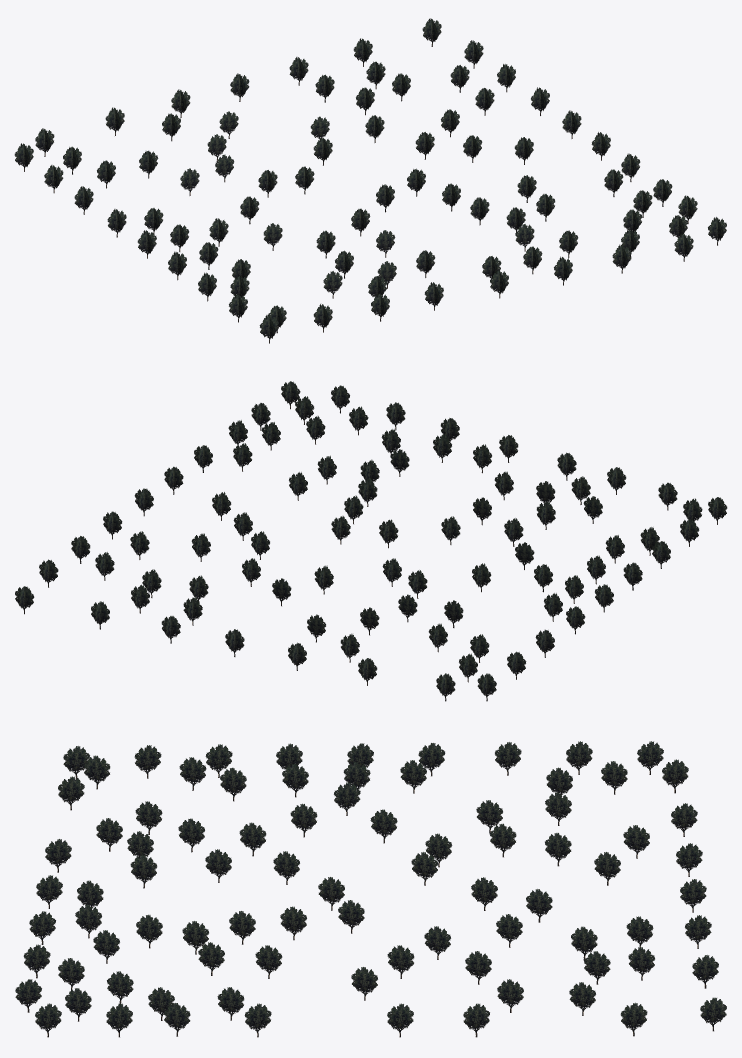
Rendered from planeTree27.FBX.
3 renders of one model, top to bottom at view 1: azimuth 30°, elevation 25°; view 2: azimuth 150°, elevation 25°; view 3: azimuth 270°, elevation 25°, orthographic. The views are drawn at different scales.
Parts seen in each view (by area): view 1: planeTree27; view 2: planeTree27; view 3: planeTree27.
Part boxes in pixels (<box>): planeTree27: <box>14,18,726,343</box>; planeTree27: <box>15,381,727,701</box>; planeTree27: <box>15,741,726,1037</box>.
Bounding box in the file's own units: 4760 × 279 × 5230.
